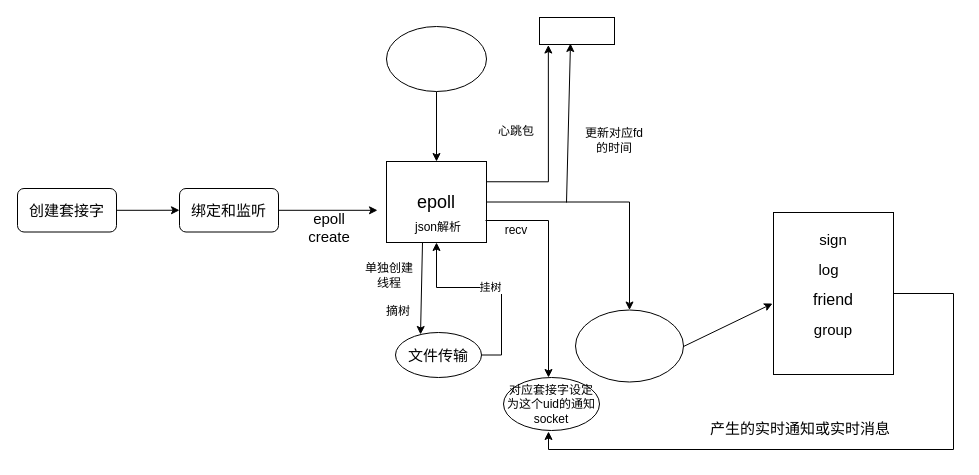
Image size: 979x475. Some labels were removed from this diagram. The shapes that lost their labels are listed below. From the top down, each one's centre as x and y in pixels, then its label:
At pixel 576 30: "clock".
At pixel 436 59: "新请求".
At pixel 629 345: "线程池任务调度".
